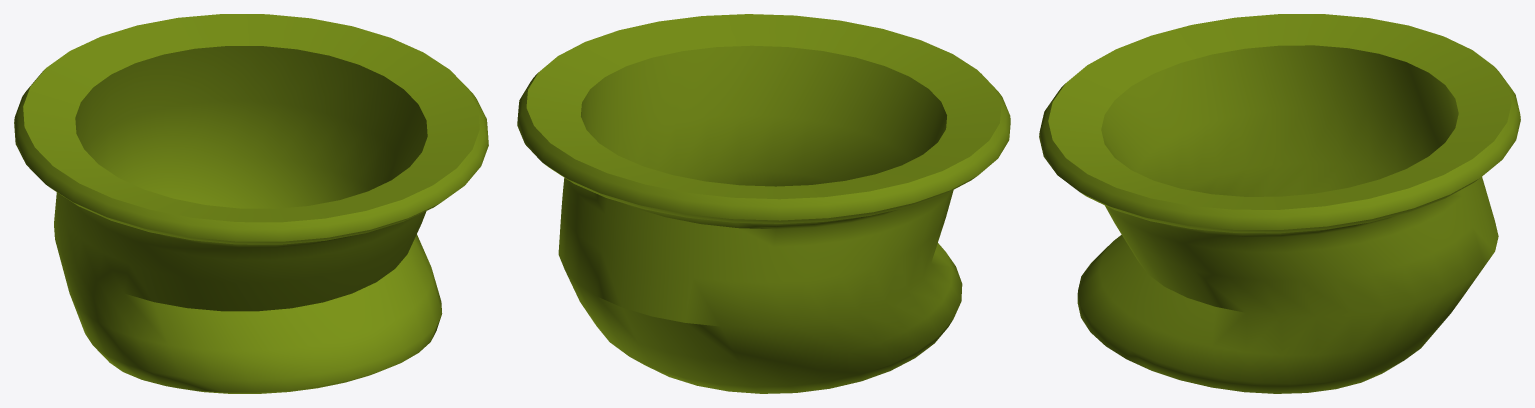
File: Pote_04.fbx
3 renders of one model, left to right at view 1: azimuth 30°, elevation 25°; view 2: azimuth 150°, elevation 25°; view 3: azimuth 270°, elevation 25°, orthographic. The views are drawn at different scales.
Visible parts, largest first — view 1: Pote_04; view 2: Pote_04; view 3: Pote_04.
Boxes of the visible parts, bbox=[...] form: Pote_04: bbox=[14, 14, 488, 393]; Pote_04: bbox=[517, 14, 1010, 393]; Pote_04: bbox=[1039, 14, 1520, 393].
Bounding box in the file's own units: 24.54 × 13.38 × 24.54.
